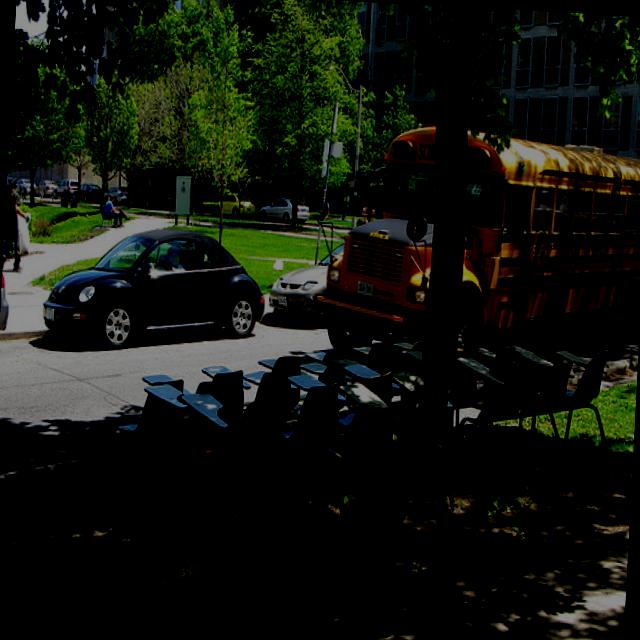Vehicle: (454, 127, 640, 350), (42, 222, 270, 358), (268, 239, 344, 319), (258, 195, 312, 225), (212, 189, 256, 220), (0, 263, 11, 338), (131, 187, 166, 210), (53, 179, 78, 200), (104, 186, 131, 204), (16, 177, 41, 195), (80, 184, 102, 204), (38, 180, 58, 197)
